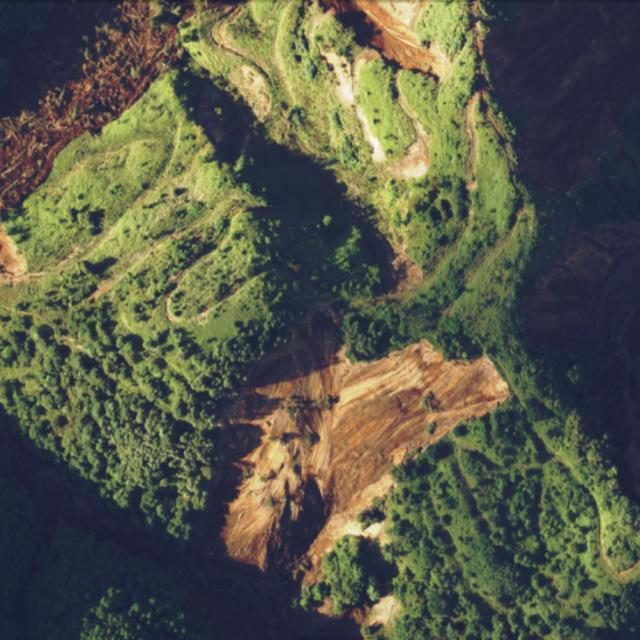landslide: (222, 340, 510, 584), (0, 1, 215, 213), (323, 0, 446, 77)
